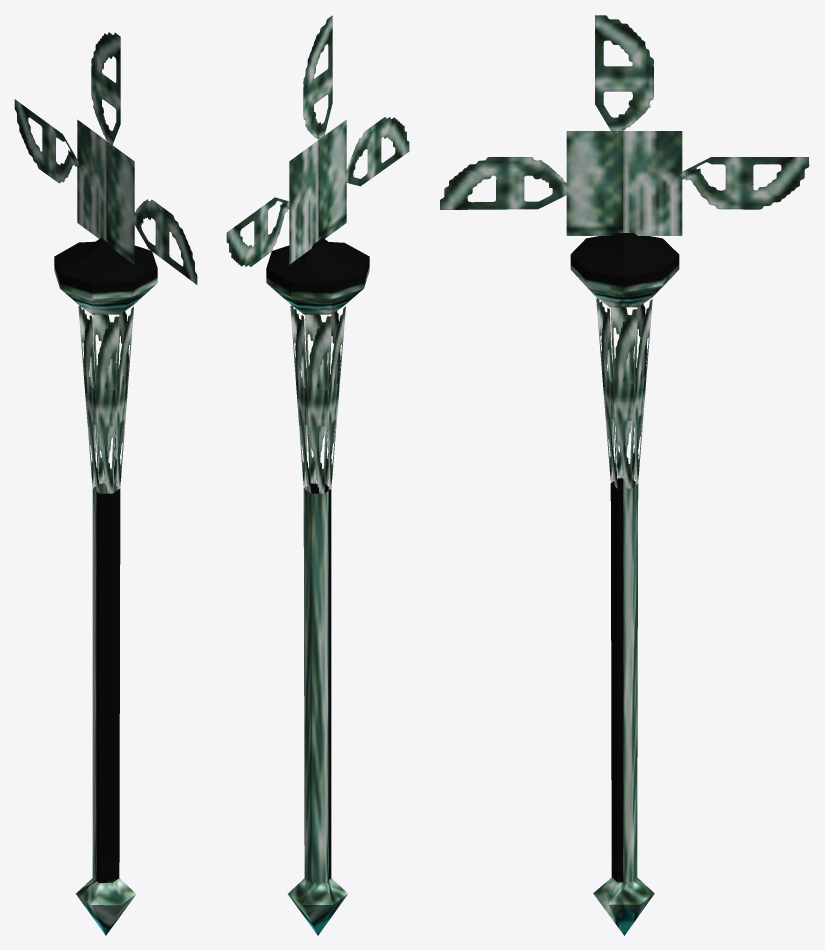
Rendered from wavemaster04_4.obj.
3 renders of one model, left to right at view 1: azimuth 30°, elevation 25°; view 2: azimuth 150°, elevation 25°; view 3: azimuth 270°, elevation 25°, orthographic.
Visible parts, largest first — view 1: wavemaster04_4; view 2: wavemaster04_4; view 3: wavemaster04_4.
Boxes of the visible parts, <box> form: wavemaster04_4: <box>14,32,197,935</box>; wavemaster04_4: <box>226,15,409,935</box>; wavemaster04_4: <box>440,15,809,935</box>.
Bounding box in the file's own units: 0.1375 × 1.3 × 0.475.
